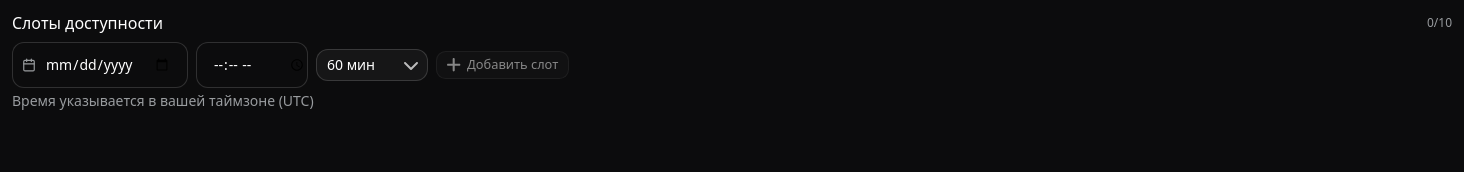
Test: SlotPickerField › должен показывать ошибку при попытке добавить слот в прошлом
The image size is (1464, 172).
Type "2000-01-01" into the date field named "Дата" at (100, 65), box [12,42,188,88]
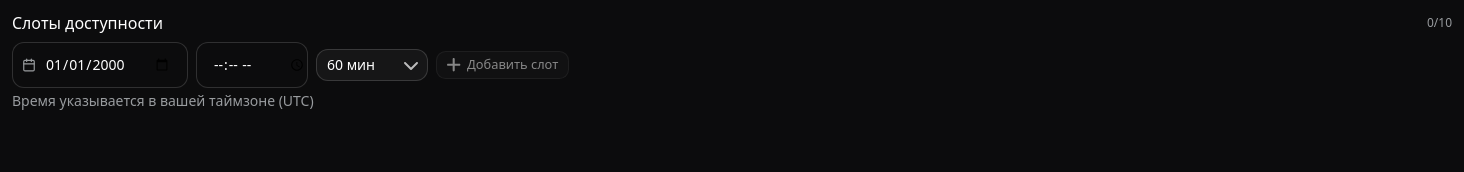
Type "10:00" into the time field named "Время начала" at (252, 65), box [196,42,308,88]
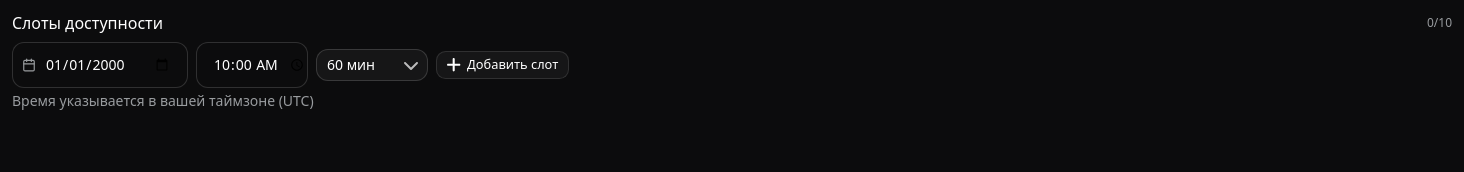
Click the button "Добавить слот" at (503, 65), box [436,51,569,79]
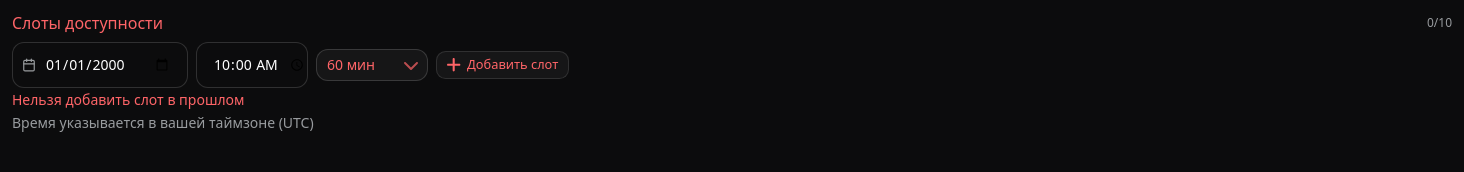
Expected: the text "Нельзя добавить слот в прошлом" is shown, [12,90,244,109]
